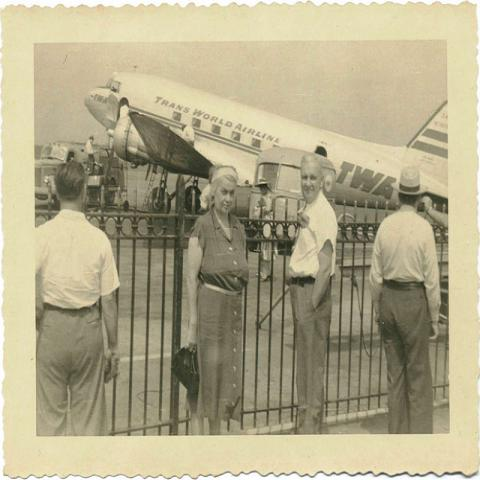truck: (245, 150, 338, 224), (35, 140, 126, 207)
